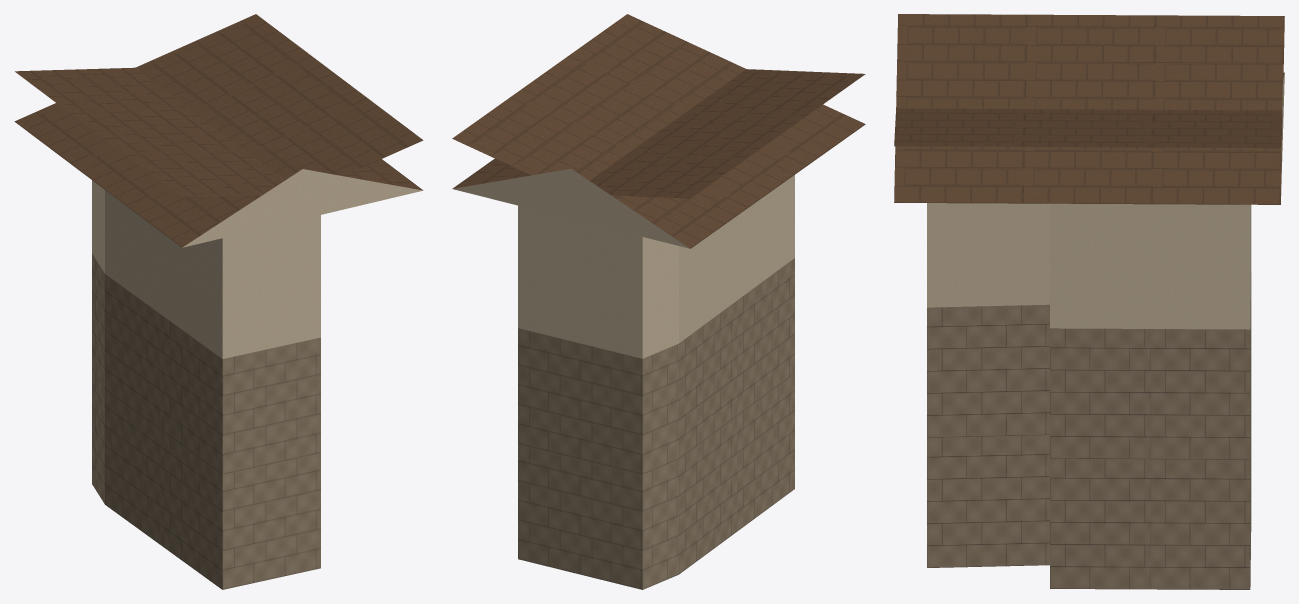
Rendered from bld_c11_30_392.gltf.
3 views of the same model, side by side, from view 1: azimuth 30°, elevation 25°; view 2: azimuth 150°, elevation 25°; view 3: azimuth 270°, elevation 25° (orthographic). The views are drawn at different scales.
Parts seen in each view (by area): view 1: bld_c11_30_392; view 2: bld_c11_30_392; view 3: bld_c11_30_392.
Part boxes in pixels (left/top/right/bottom): bld_c11_30_392: left=14, top=14, right=423, bottom=589; bld_c11_30_392: left=452, top=14, right=865, bottom=589; bld_c11_30_392: left=894, top=14, right=1284, bottom=589.
Size of the model in its own units: 5.08 by 8.3 by 6.25.
4 materials, 4 textured.
